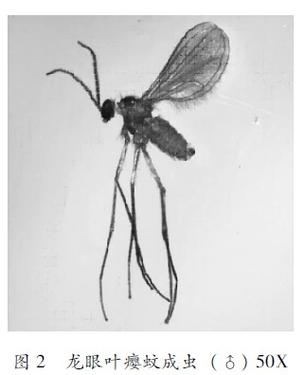Cecidomyiidae: (42, 22, 231, 326)
